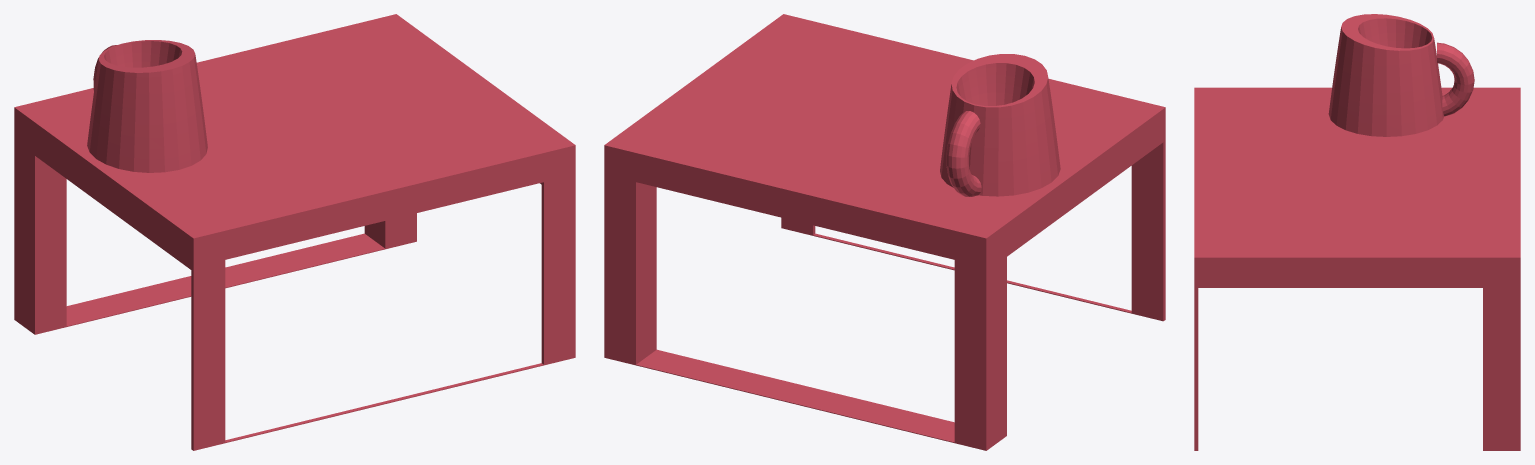
Rendered from Surprising Snicket.glb.
3 renders of one model, left to right at view 1: azimuth 30°, elevation 25°; view 2: azimuth 150°, elevation 25°; view 3: azimuth 270°, elevation 25°, orthographic. The views are drawn at different scales.
Visible parts, largest first — view 1: Mesh_Mesh_head_geo.001_lambert2SG.001; view 2: Mesh_Mesh_head_geo.001_lambert2SG.001; view 3: Mesh_Mesh_head_geo.001_lambert2SG.001.
Boxes of the visible parts, <box> form: Mesh_Mesh_head_geo.001_lambert2SG.001: <box>14,14,575,450</box>; Mesh_Mesh_head_geo.001_lambert2SG.001: <box>604,14,1165,450</box>; Mesh_Mesh_head_geo.001_lambert2SG.001: <box>1194,14,1520,450</box>.
Bounding box in the file's own units: 96 × 74 × 78.
